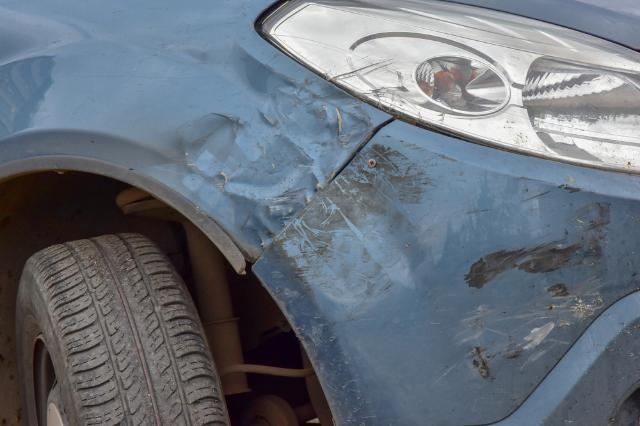dent: (169, 78, 370, 256), (276, 139, 450, 305)
scratch: (441, 180, 617, 399)
